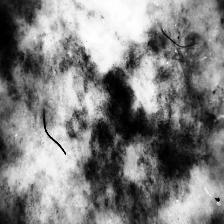Benign Marking or Mole: (81, 22, 214, 220)
